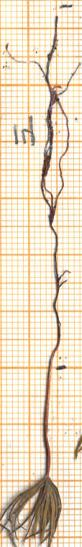flower: (0, 473, 70, 547)
root: (2, 1, 82, 356)
stem: (37, 356, 60, 472)
